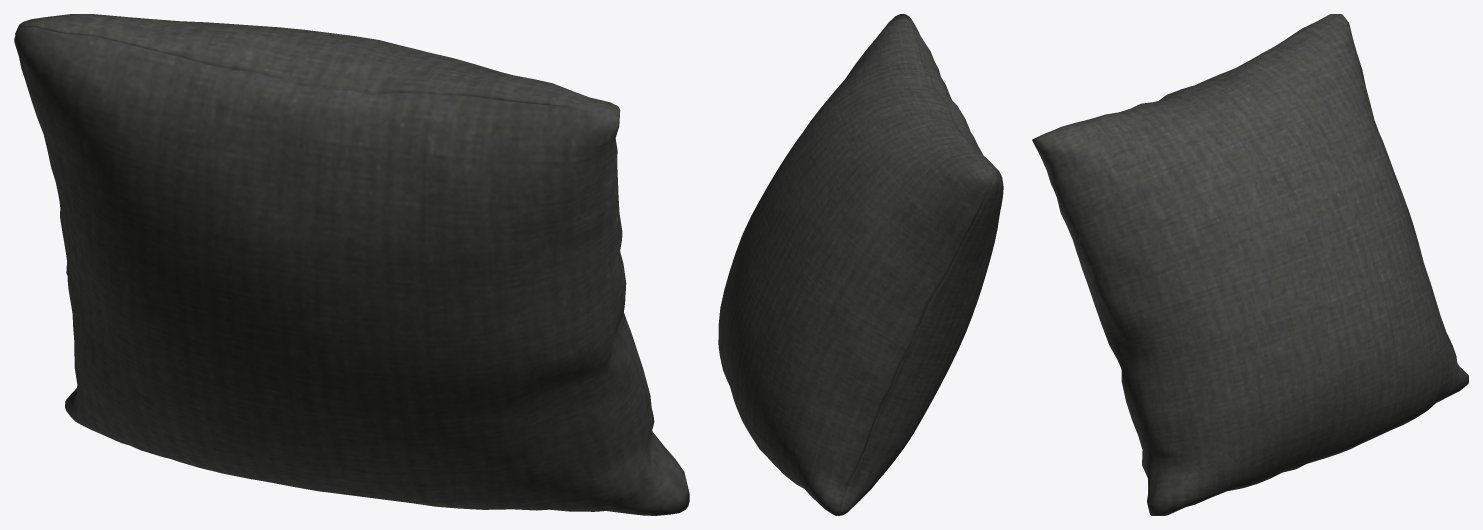
The model's file is MeridaDaybed01_Pillow.glb.
3 views of the same model, side by side, from view 1: azimuth 30°, elevation 25°; view 2: azimuth 150°, elevation 25°; view 3: azimuth 270°, elevation 25° (orthographic). The views are drawn at different scales.
Visible parts, largest first — view 1: merida-daybed-cushion01-fabric.001; view 2: merida-daybed-cushion01-fabric.001; view 3: merida-daybed-cushion01-fabric.001.
Part boxes in pixels (<box>): merida-daybed-cushion01-fabric.001: <box>14,14,689,515</box>; merida-daybed-cushion01-fabric.001: <box>718,14,1003,515</box>; merida-daybed-cushion01-fabric.001: <box>1032,14,1468,515</box>.
Size of the model in its own units: 0.3886 by 0.3571 by 0.4142.
Materials: 1 (1 with a texture image).
